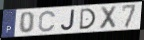0: (19, 10, 36, 34)
7: (121, 3, 137, 29)
C: (37, 10, 57, 33)
D: (78, 8, 97, 31)
J: (60, 9, 77, 32)
X: (98, 5, 119, 31)
